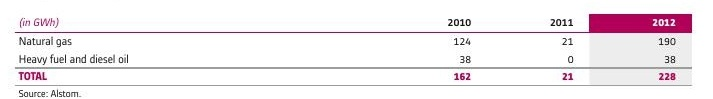table: (0, 0, 713, 99)
